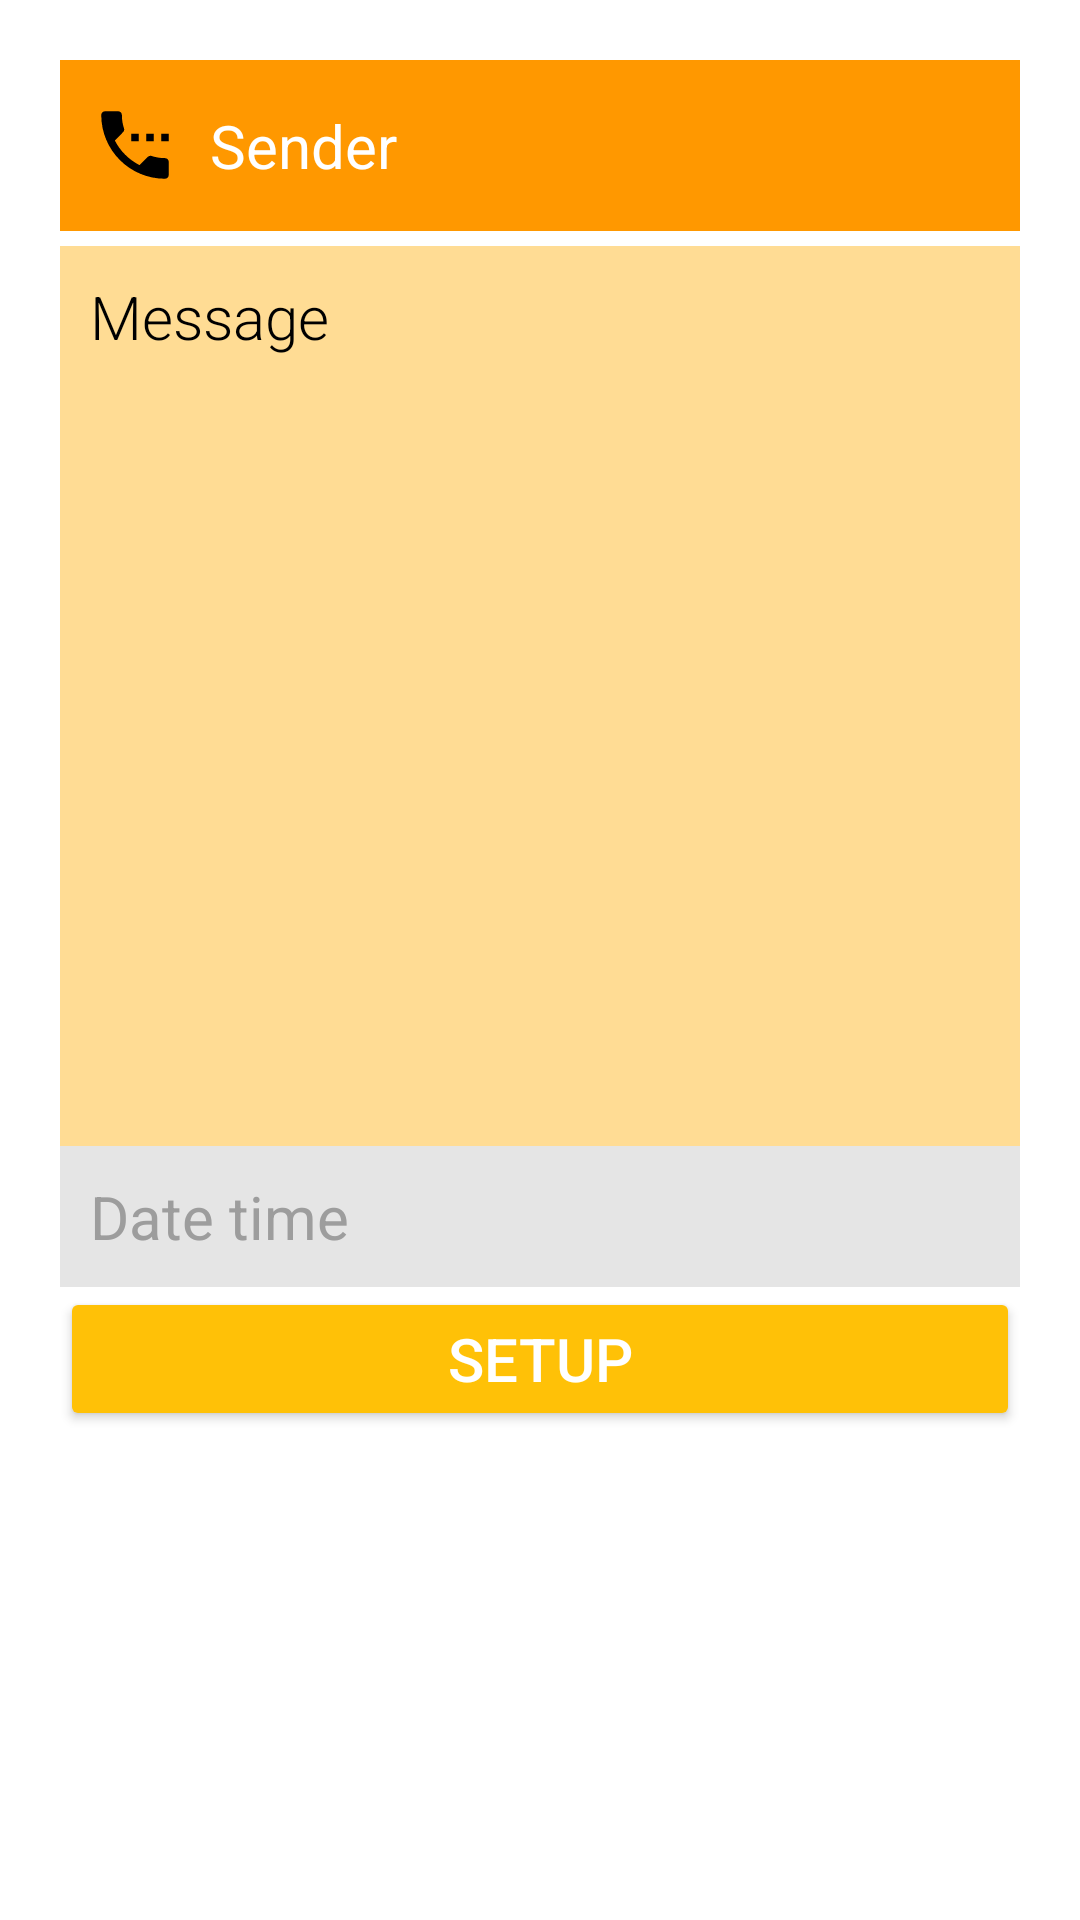

Where to tap for icons on this 1080x1920 app screen, as (x,y):
settings call: (135,145)
